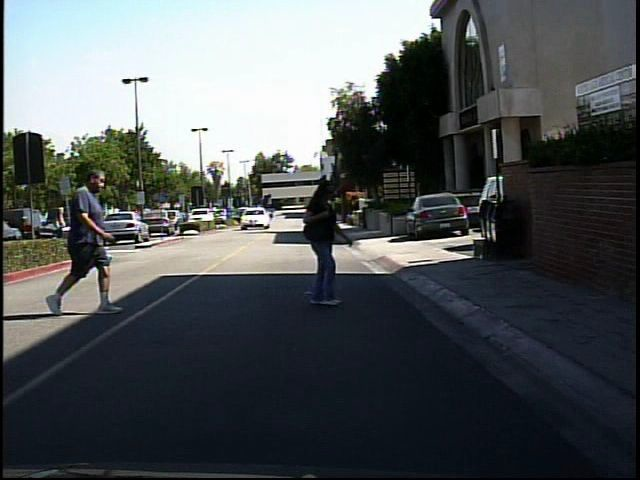person: (46, 164, 129, 320), (289, 176, 366, 313), (50, 203, 69, 255)
